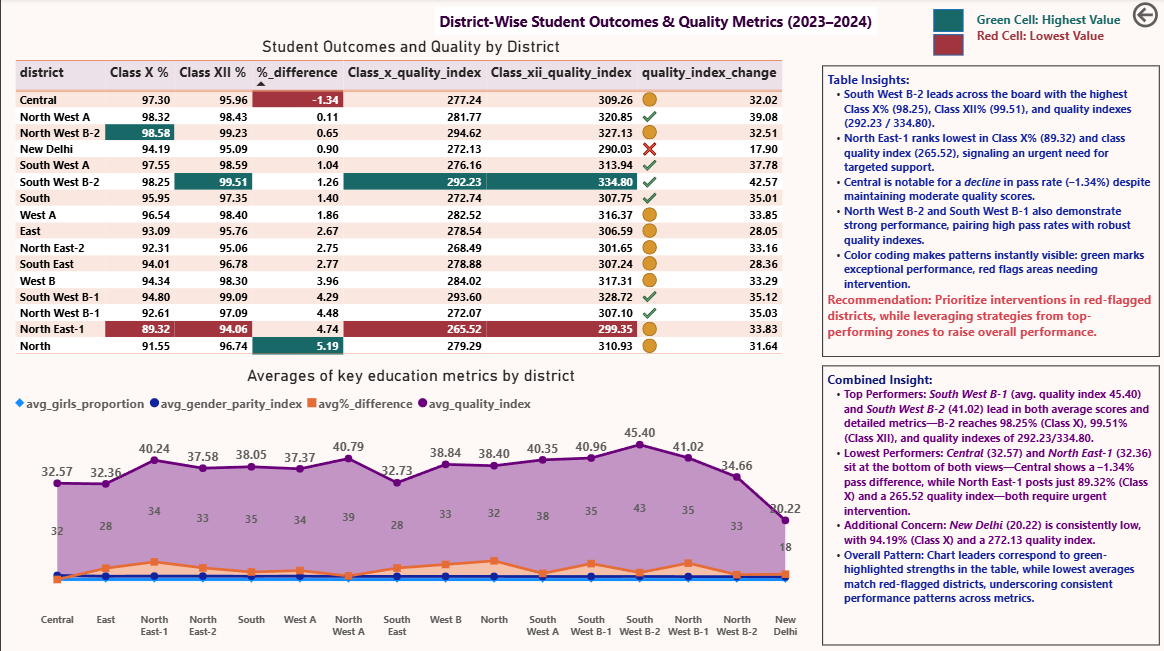

The page's visual inventory and layout, read from the dashboard file:
{"tool":"powerbi","page":{"name":"Page 2","canvas":[1280,720],"ordinal":1},"visuals":[{"type":"tableEx","title":"Student Outcomes and Quality by District","fields":{"Values":["education_final_data.district","education_final_data.class_x_pass_percentage","education_final_data.class_xii_pass_percentage","education_final_data.pass_percentage_diff","education_final_data.class_x_quality_index","education_final_data.class_xii_quality_index","education_final_data.quality_index_change"]},"box":[9.6,42.5,881,360.9],"z":0},{"type":"shape","box":[1023.7,12.3,32.9,24.7],"z":1000},{"type":"shape","box":[1023.7,39.8,32.9,23.3],"z":2000},{"type":"textbox","box":[901.5,74.1,370.5,319.7],"z":3000},{"type":"textbox","box":[1066.2,9.6,188,64.5],"z":4000},{"type":"stackedAreaChart","title":"Averages of key education metrics by district","fields":{"Category":["education_final_data.district"],"Y":["education_final_data.AvgProportionGirls","education_final_data.avg_gender_parity_index","education_final_data.avg_pass_prcnt_diff_X&Xii","education_final_data.avg_quality_index"]},"box":[9.6,403.4,881,307.4],"z":5000},{"type":"textbox","box":[901.5,403.4,370.5,307.4],"z":6000},{"type":"actionButton","box":[1237.7,0,42.5,37],"z":7000},{"type":"textbox","box":[433,10,500,31],"z":8000}]}

Visuals, with their boxes in screenshot pixels (x1, y1, x2, y2), scaled from the page's 1280x720 canvas onto the 1164x651 screenshot:
"Student Outcomes and Quality by District" tableEx: {"left": 9, "top": 38, "right": 810, "bottom": 365}
shape: {"left": 931, "top": 11, "right": 961, "bottom": 33}
shape: {"left": 931, "top": 36, "right": 961, "bottom": 57}
textbox: {"left": 820, "top": 67, "right": 1157, "bottom": 356}
textbox: {"left": 970, "top": 9, "right": 1141, "bottom": 67}
"Averages of key education metrics by district" stackedAreaChart: {"left": 9, "top": 365, "right": 810, "bottom": 643}
textbox: {"left": 820, "top": 365, "right": 1157, "bottom": 643}
actionButton: {"left": 1126, "top": 0, "right": 1163, "bottom": 33}
textbox: {"left": 394, "top": 9, "right": 848, "bottom": 37}
